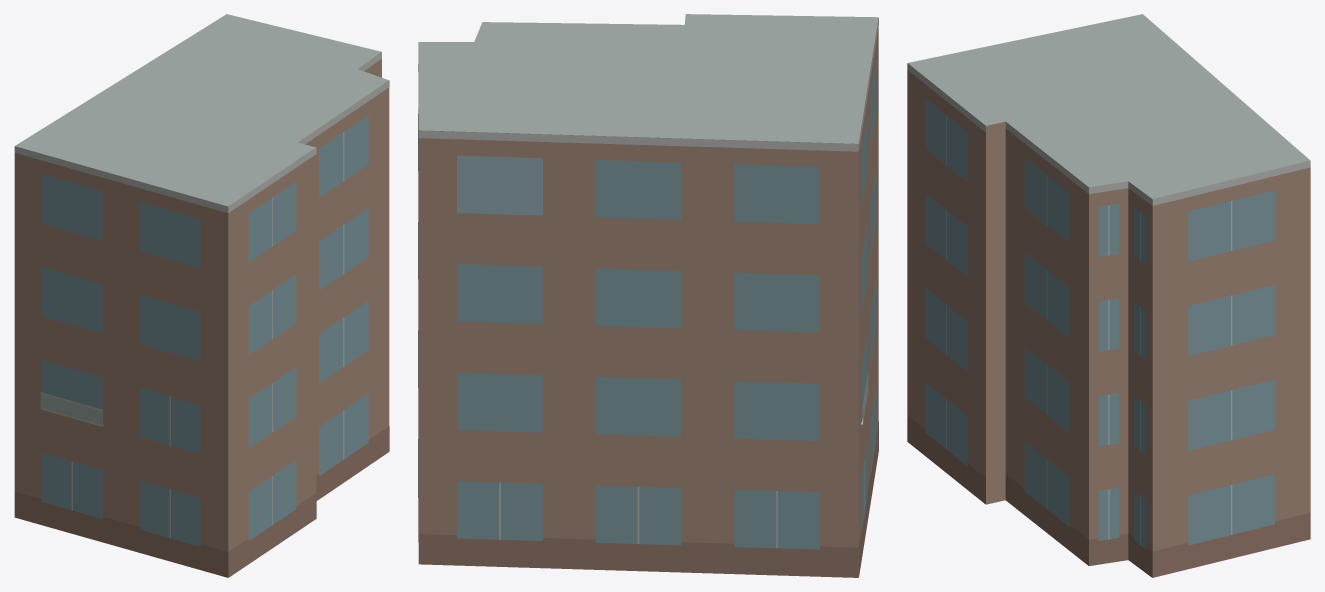
The model's file is survey-upis-32930283.glb.
The picture shows the model from 3 angles, left to right: view 1: azimuth 30°, elevation 25°; view 2: azimuth 150°, elevation 25°; view 3: azimuth 270°, elevation 25°; orthographic projection. The views are drawn at different scales.
Parts seen in each view (by area): view 1: survey-upis-32930283.tmp; view 2: survey-upis-32930283.tmp; view 3: survey-upis-32930283.tmp.
Boxes of the visible parts, x1,y1,x2,y2 form: survey-upis-32930283.tmp: [14, 14, 389, 577]; survey-upis-32930283.tmp: [418, 14, 878, 577]; survey-upis-32930283.tmp: [907, 14, 1310, 577].
Size of the model in its own units: 14.27 by 13.6 by 13.13.
